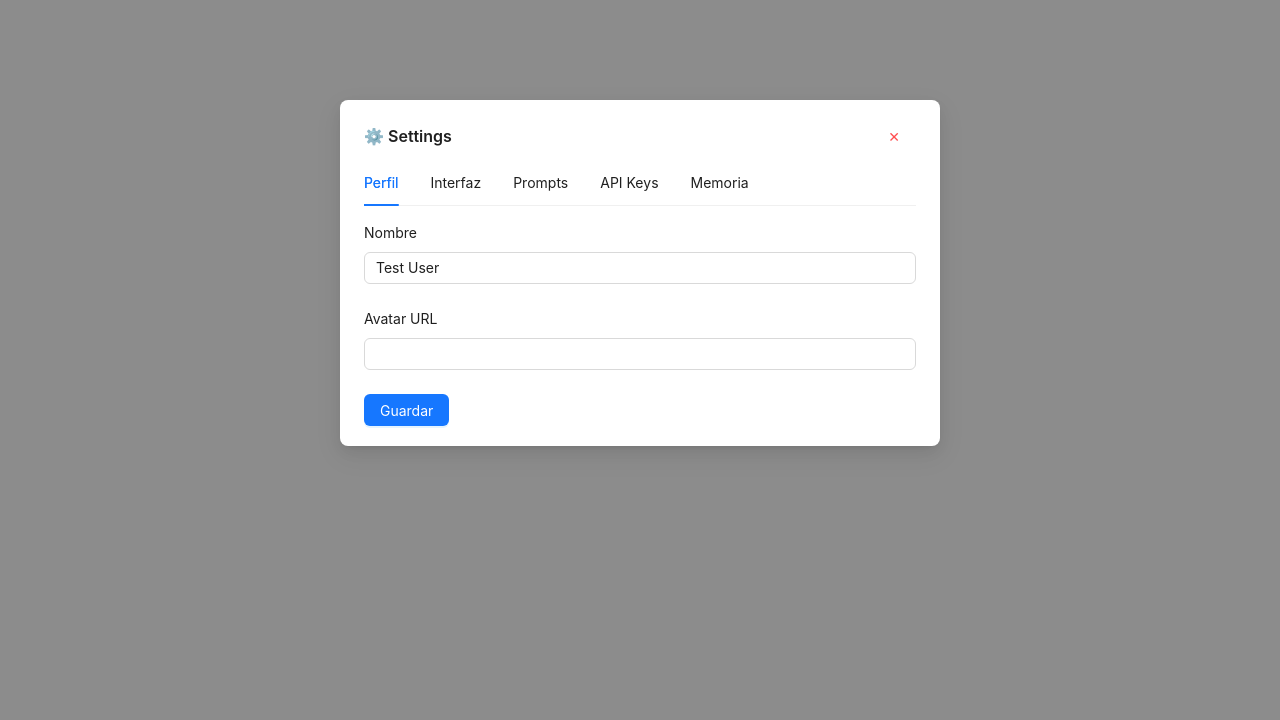
Test case: SettingsDialog › shows error message when profile save fails
What coordinates should you click on to do the following:
click the button "Guardar"
I would click on:
 (407, 410)
Its box is [364,394,449,426].
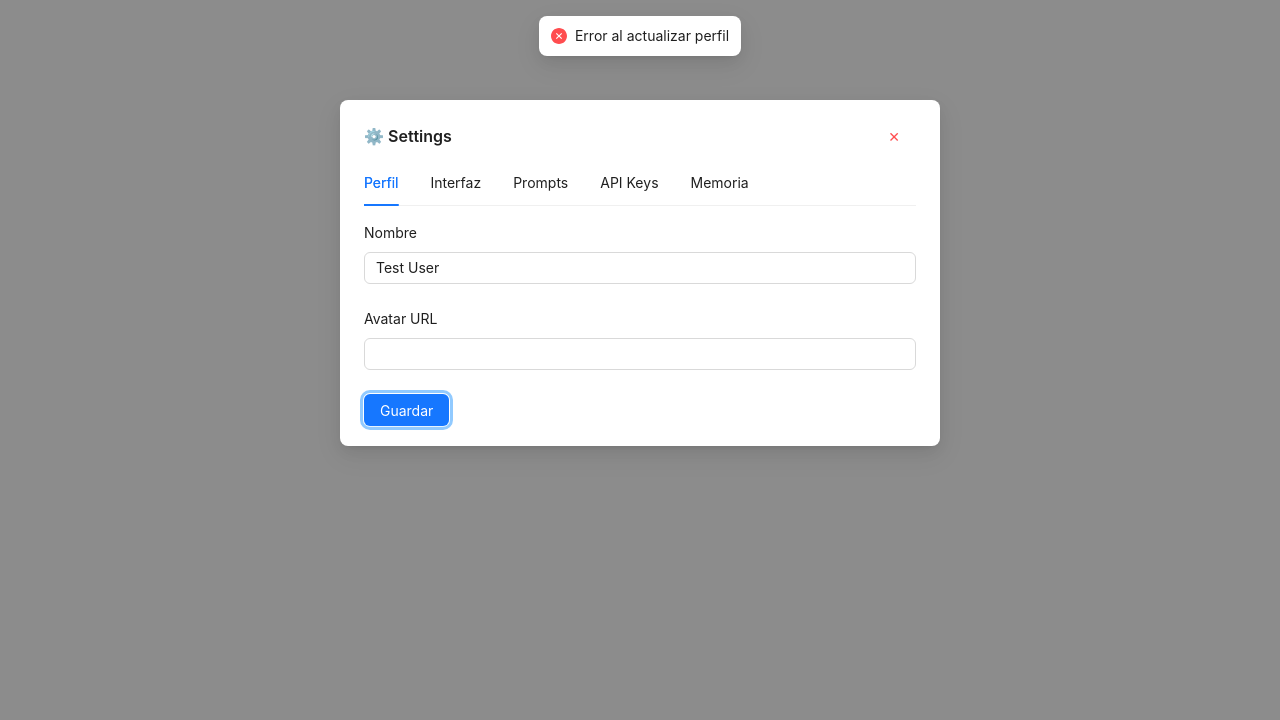
Expected: the text "Error al actualizar perfil" is shown, [575,25,729,47]
